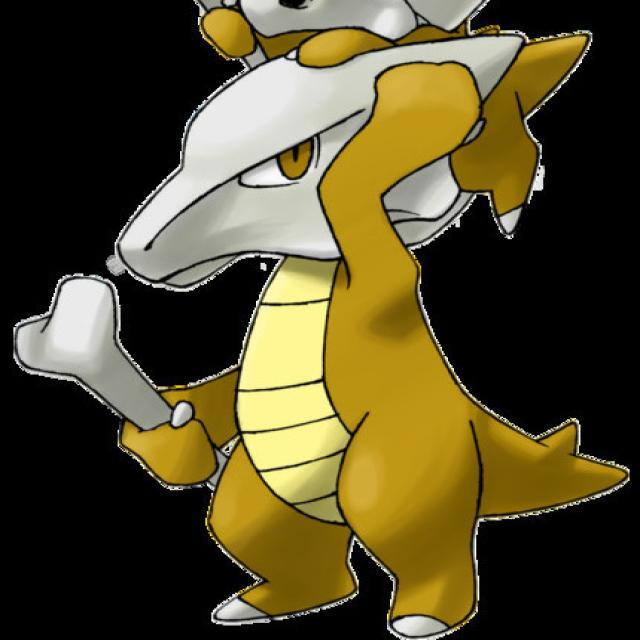Marowak: (117, 30, 525, 640)
